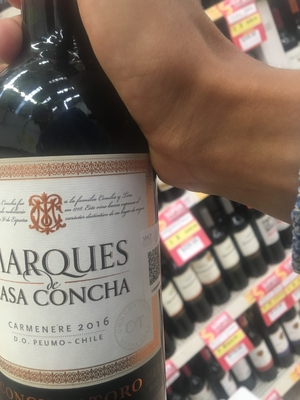marques de casa concha carmenere: (1, 39, 183, 400)
